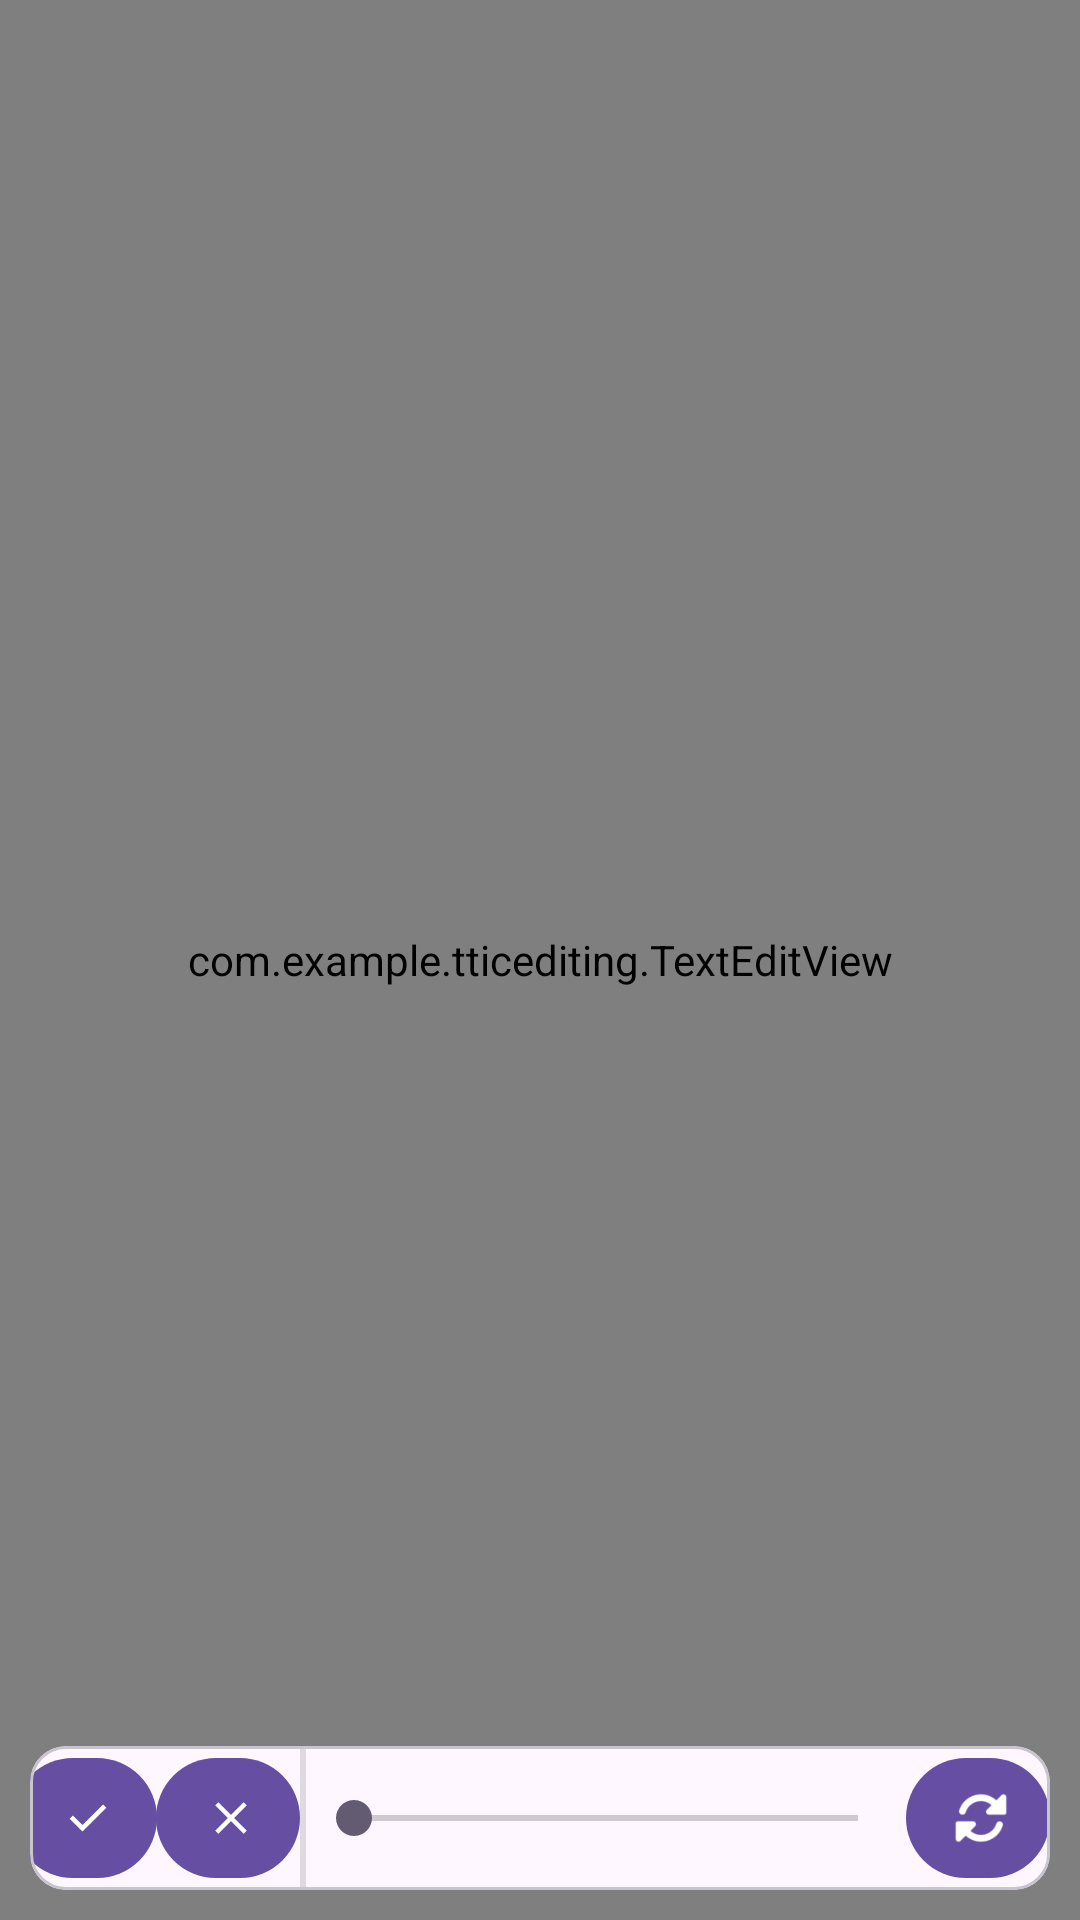

Icon click points for this 1080px×1920px phone screenshot, format [x,y]:
discard: [228,1818]
